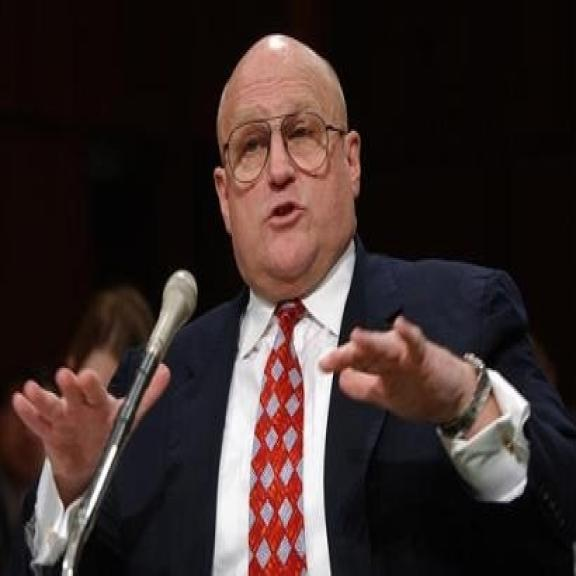face: (208, 35, 364, 287)
